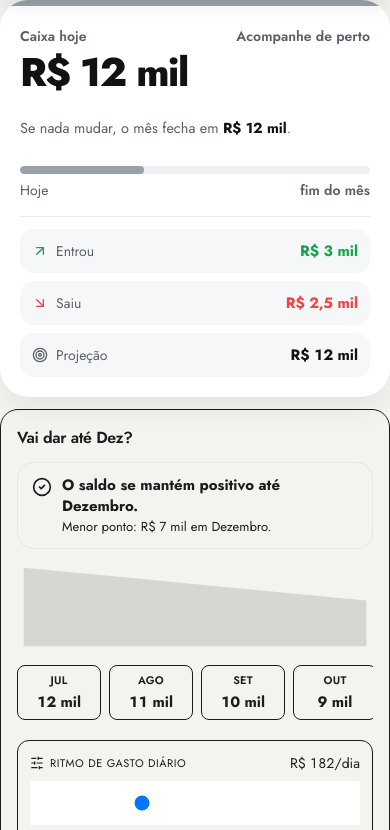
Test: MobileMonthCockpit › keeps canonical hero/support values and reveals the exact hero in one touch
The width and height of the screenshot is (390, 830).
Check: the text "Caixa hoje" is shown, box x1=20 y1=26 x2=87 y2=46
Check: the link with aria-label "Ver entradas do mês" shows "R$ 3 mil", box x1=20 y1=229 x2=370 y2=273
Step 1. Click the button with aria-label "Mostrar valor exato" → (104, 72), box x1=20 y1=50 x2=188 y2=94
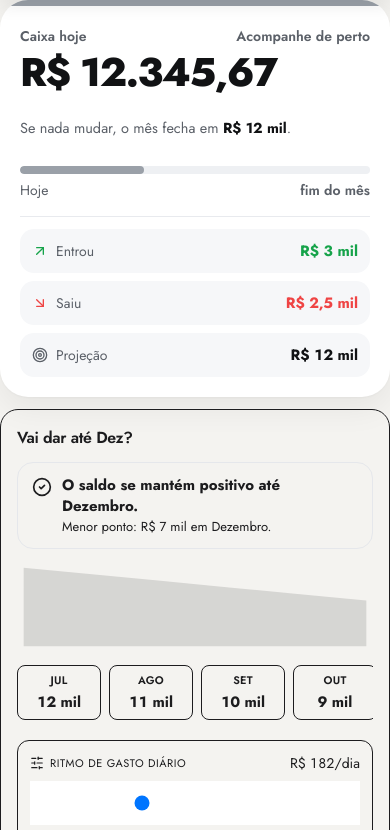
Check: the button "R$ 12.345,67" is shown, box x1=20 y1=50 x2=277 y2=94
